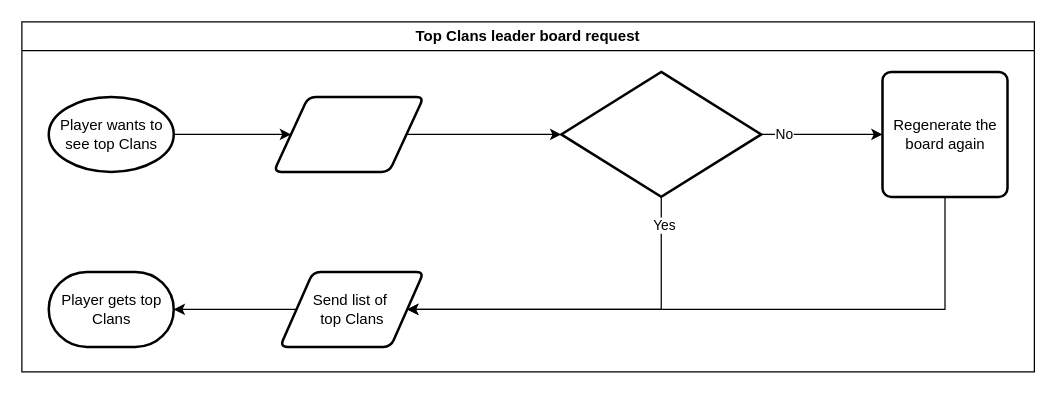
The diagram is 1056 pixels wide and 394 high, and some of its shapes have lost their labels. Here are the shapes that lost their labels. From the top down, the box of each, then its label:
(272, 95, 424, 172): Sends request
(559, 70, 762, 198): Where the board updated within last 12 hours?
